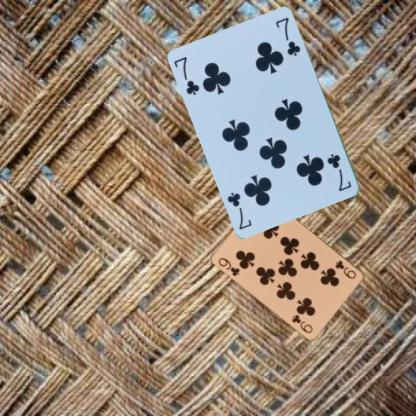7c: (172, 54, 201, 96), (325, 151, 353, 193)
9c: (333, 258, 358, 280), (216, 255, 241, 277)
